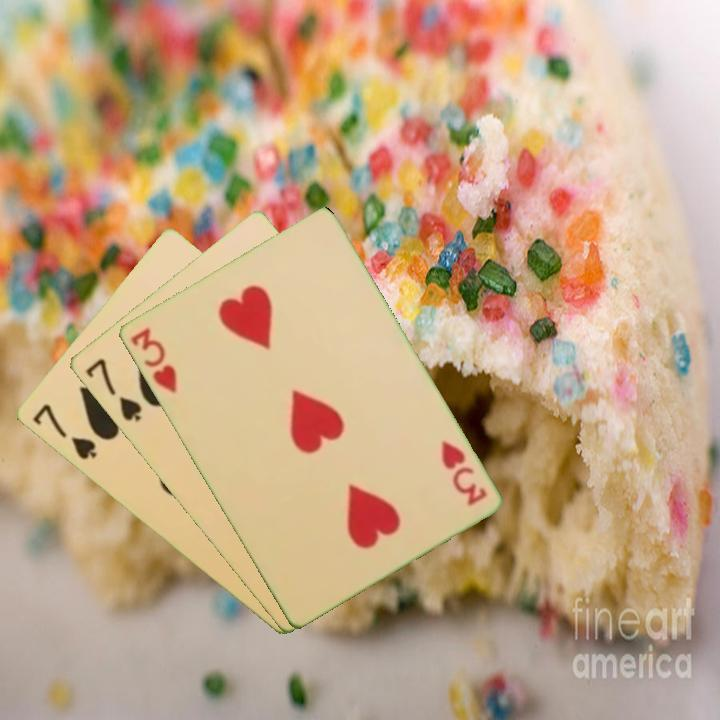3h: (126, 324, 180, 396), (437, 437, 490, 509)
7s: (28, 400, 100, 463), (81, 354, 144, 425)
